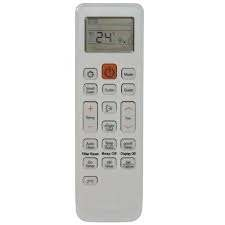remote control: (72, 0, 149, 225)
